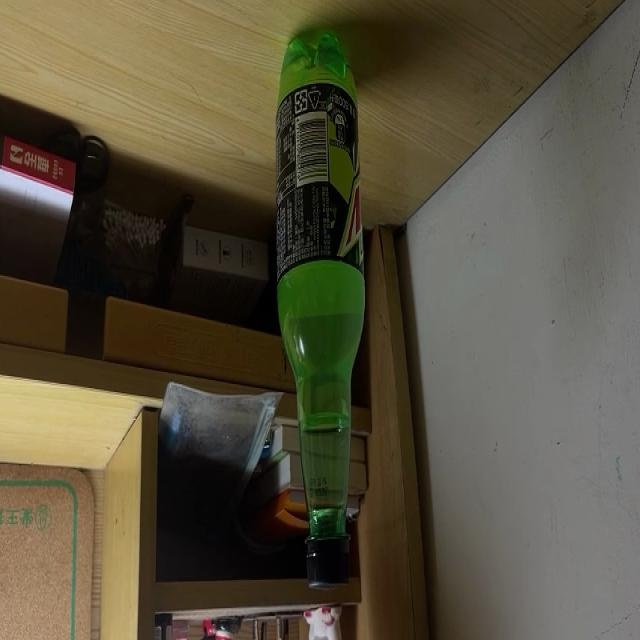Mountain-Dew: (273, 29, 366, 591)
